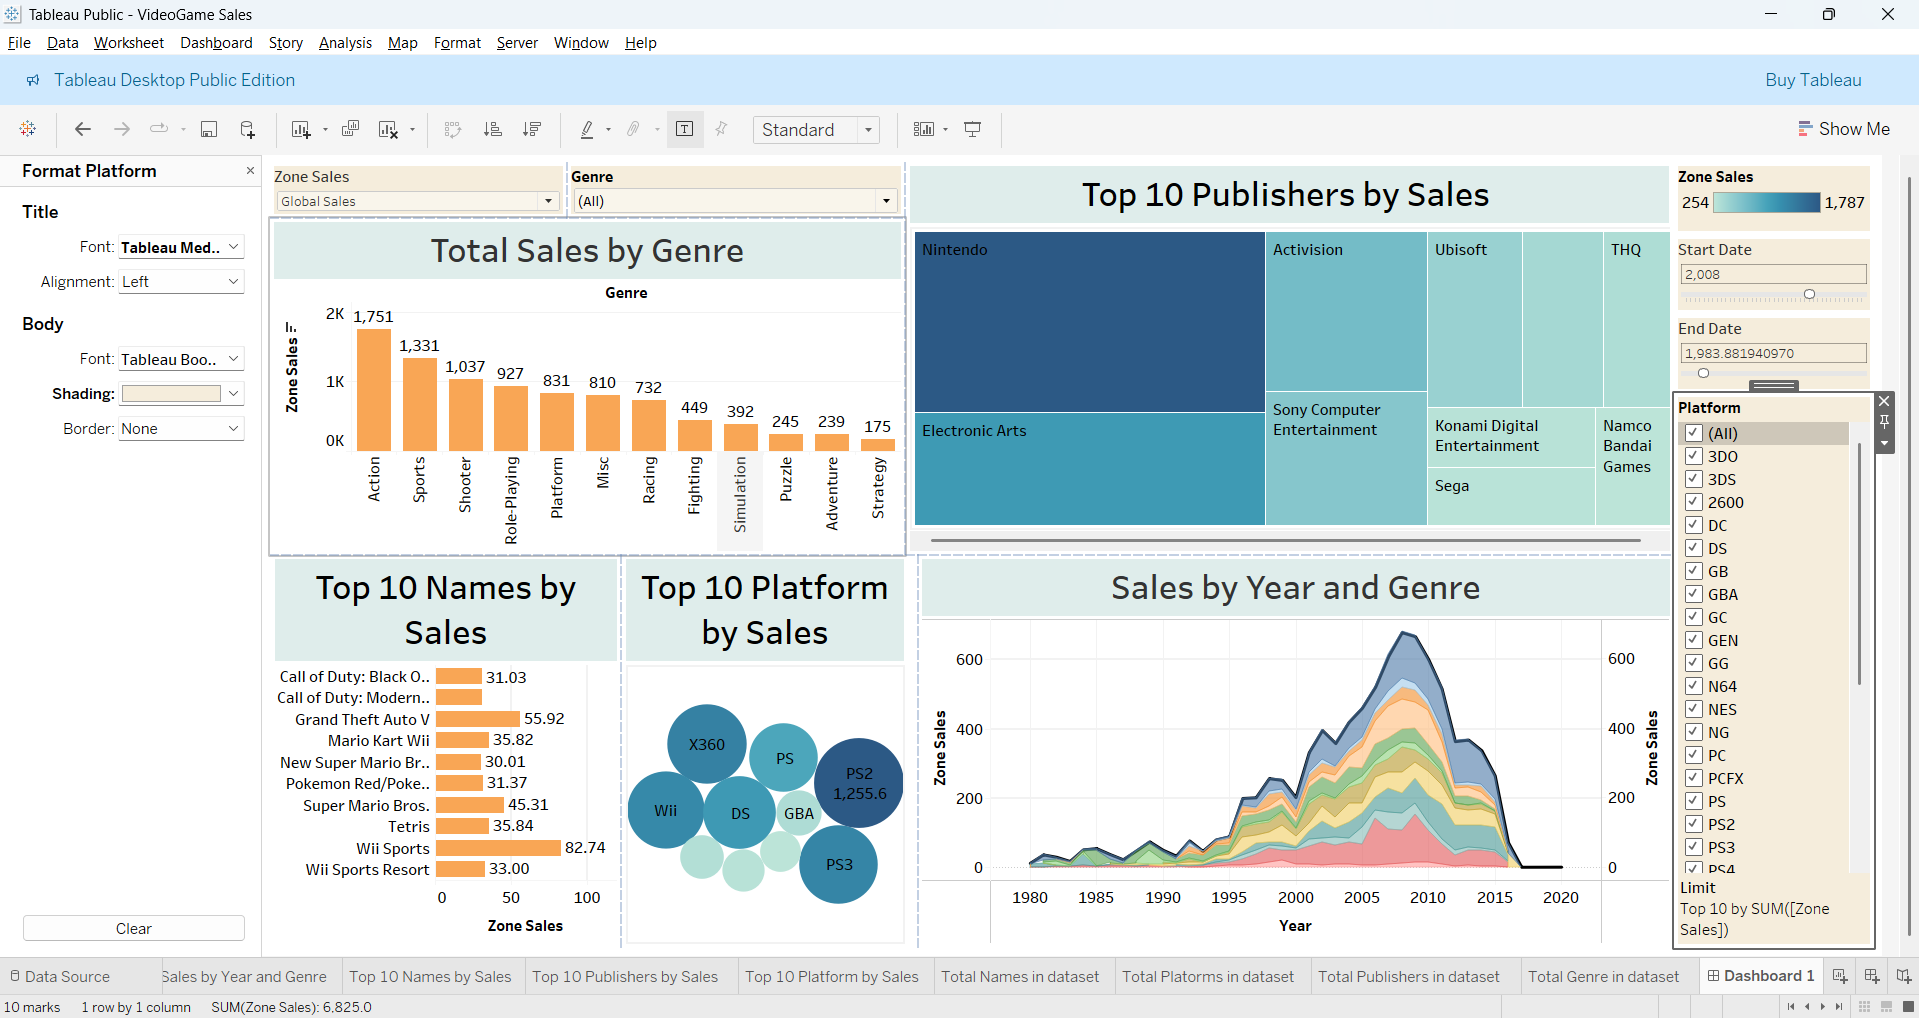

The dashboard page shown, as its layout file describes it:
{"tool":"tableau","page":{"name":"Dashboard 1","canvas":[1000,1000],"units":"permille","ordinal":0},"visuals":[{"type":"parameter","param":"[Parameters].[Parameter 1]","box":[4.9,10,183.3,69.8]},{"type":"filter","title":"Sales by Year and Genre","param":"[federated.1ntl5c313cgjdv15hyh6q1npcvyw].[none:Genre:nk]","box":[188.3,10,208.6,69.8]},{"type":"worksheet","title":"Top 10 Publishers by Sales ","mark":"Automatic","box":[396.9,10,474.7,490]},{"type":"legend","title":"Top 10 Publishers by Sales ","param":"[federated.1ntl5c313cgjdv15hyh6q1npcvyw].[sum:Calculation_929711868774735872:qk]","box":[871.6,10,123.5,91]},{"type":"worksheet","title":"Total Sales by Genre","mark":"Automatic","rows":["Calculation_929711868774735872"],"cols":["Genre"],"box":[4.9,79.8,392,420.2]},{"type":"parameter","param":"[Parameters].[Parameter 2]","box":[871.6,101,123.5,98.5]},{"type":"parameter","param":"[Parameters].[Parameter 3]","box":[871.6,199.5,123.5,98.5]},{"type":"filter","title":"Top 10 Platform by Sales","param":"[federated.1ntl5c313cgjdv15hyh6q1npcvyw].[none:Platform:nk]","box":[871.6,298,123.5,692]},{"type":"worksheet","title":"Top 10 Names by Sales","mark":"Automatic","rows":["Name"],"cols":["Calculation_929711868774735872"],"box":[4.9,500,216.6,490]},{"type":"worksheet","title":"Top 10 Platform by Sales","mark":"Circle","box":[221.6,500,183.6,490]},{"type":"worksheet","title":"Sales by Year and Genre","mark":"Line","rows":["Calculation_929711868774735872","Calculation_929711868774735872"],"cols":["Year"],"box":[405.2,500,466.4,490]}]}

Visuals, with their boxes on the dashboard's canvas, which has no fixed pixel size, in thousandths of its width and height (x1, y1, x2, y2). These are canvas units, not pixel positions in the 1919x1018 screenshot, which may show the page scaled, cropped or inside an application window:
parameter: detection(5, 10, 188, 80)
"Sales by Year and Genre" filter: detection(188, 10, 397, 80)
"Top 10 Publishers by Sales " worksheet: detection(397, 10, 872, 500)
"Top 10 Publishers by Sales " legend: detection(872, 10, 995, 101)
"Total Sales by Genre" worksheet: detection(5, 80, 397, 500)
parameter: detection(872, 101, 995, 200)
parameter: detection(872, 200, 995, 298)
"Top 10 Platform by Sales" filter: detection(872, 298, 995, 990)
"Top 10 Names by Sales" worksheet: detection(5, 500, 222, 990)
"Top 10 Platform by Sales" worksheet (Circle marks): detection(222, 500, 405, 990)
"Sales by Year and Genre" worksheet (Line marks): detection(405, 500, 872, 990)
